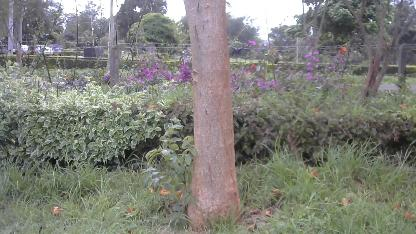tree: (178, 0, 252, 231), (320, 0, 416, 104)
